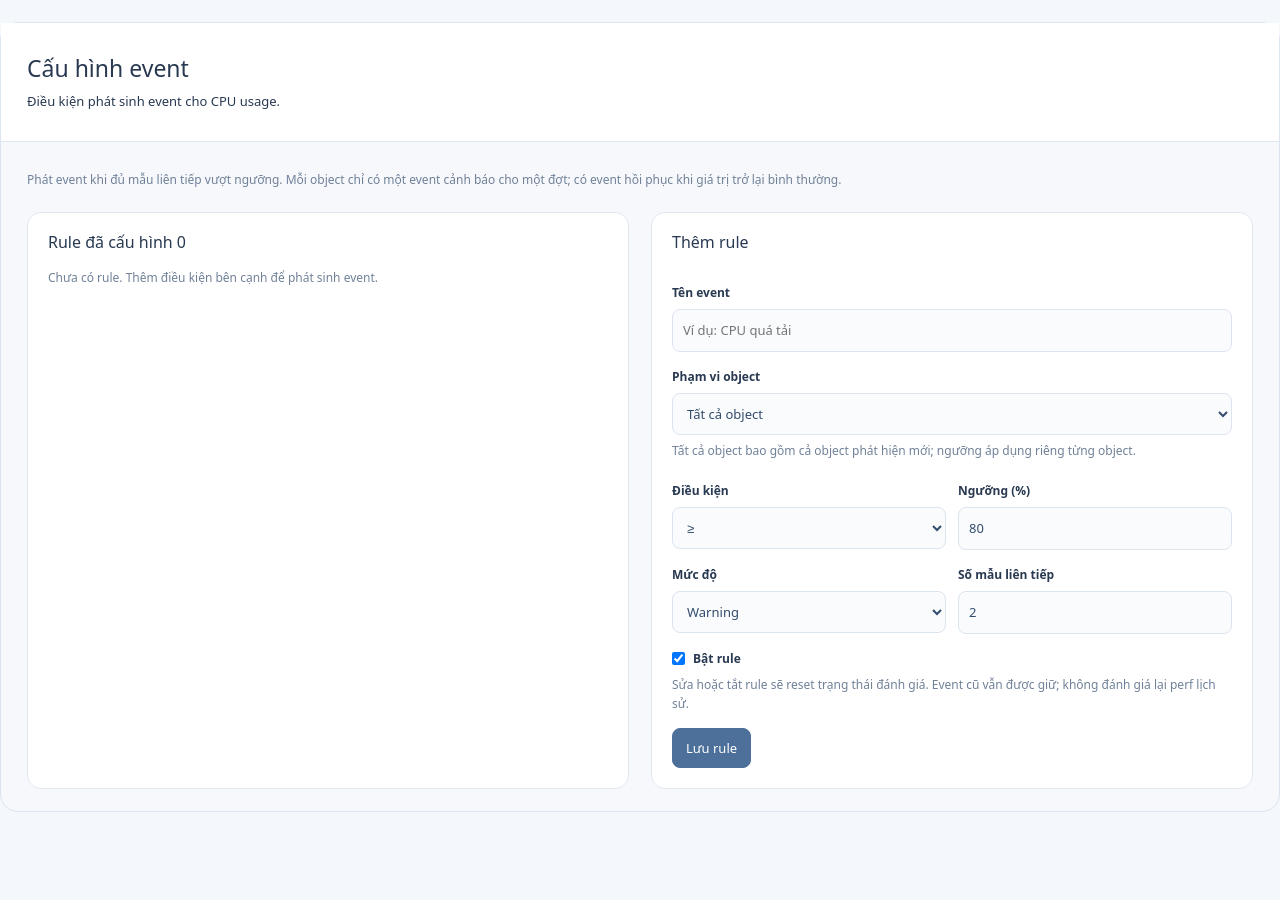
Test case: creates all-object rules inline without changing body scrolling
The image size is (1280, 900).
Type "CPU quá tải" into the field with id "rule-name".
click(952, 330); type("CPU quá tải")  # box top-left (672, 309), bottom-right (1232, 352)
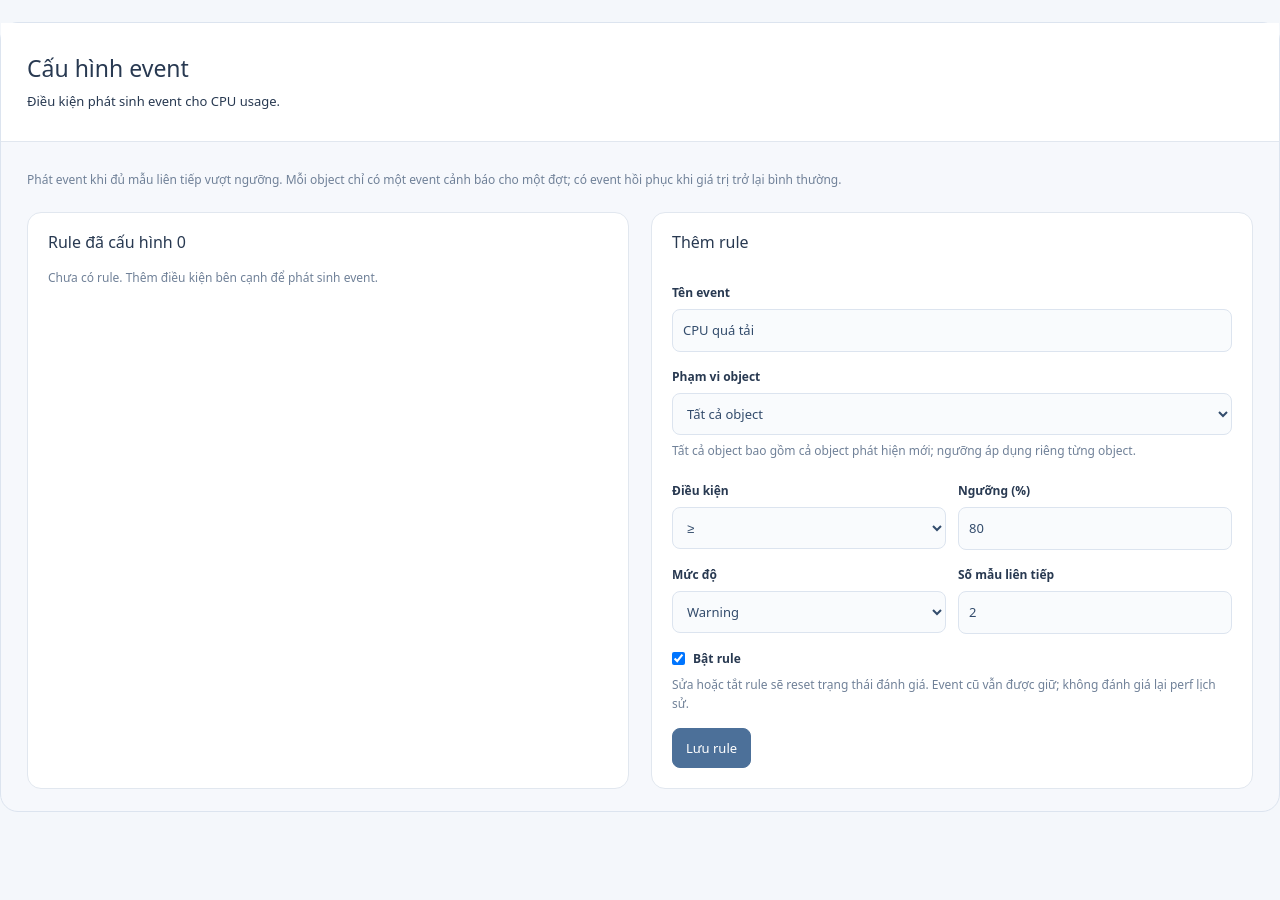
Submit the form, box top-left (651, 212), bottom-right (1253, 790)
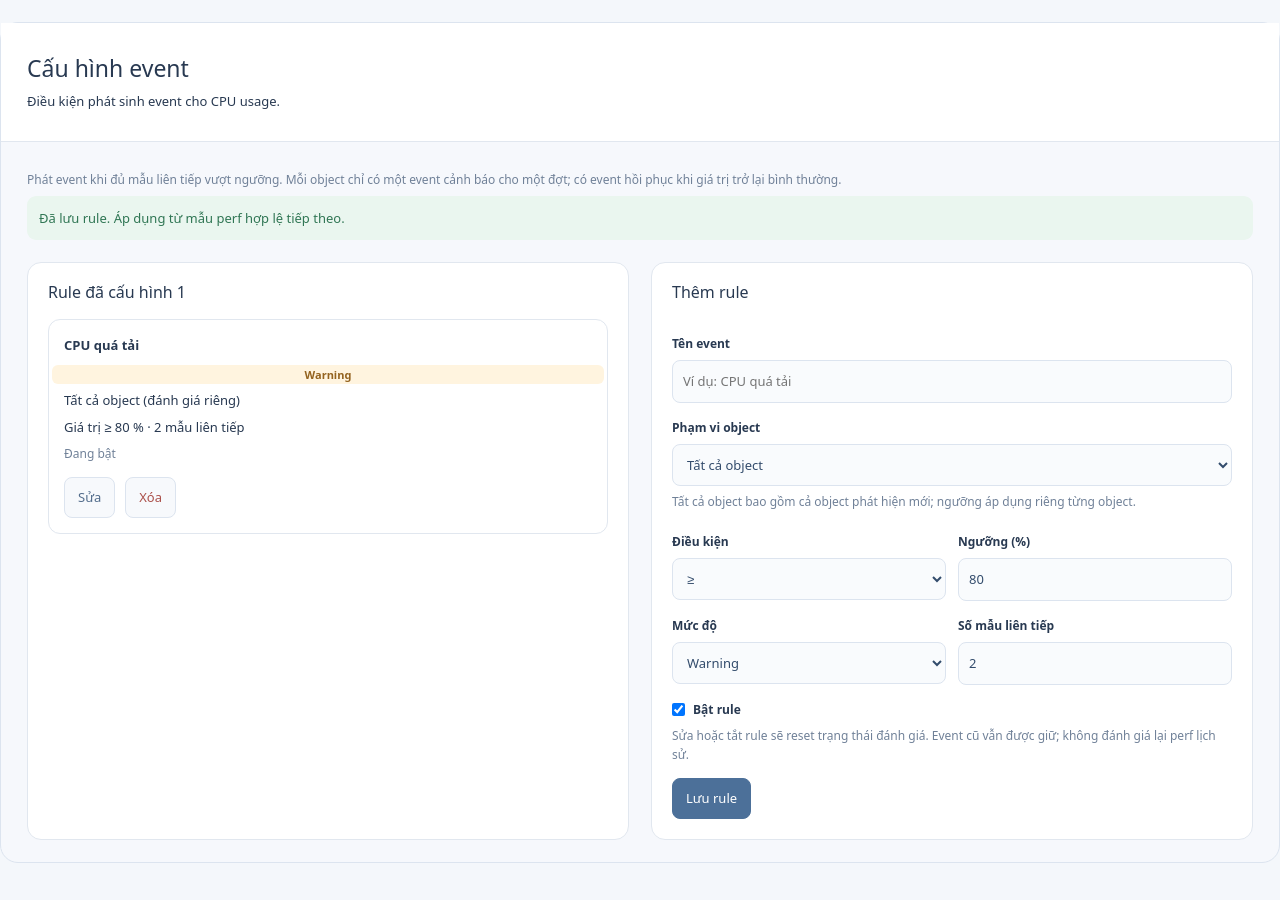
Expected: the text "Đã lưu rule" is shown, top-left (39, 209), bottom-right (345, 227)
